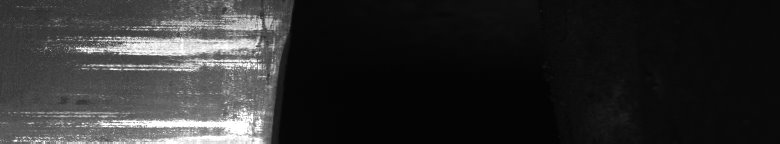kb: (21, 4, 256, 136)
